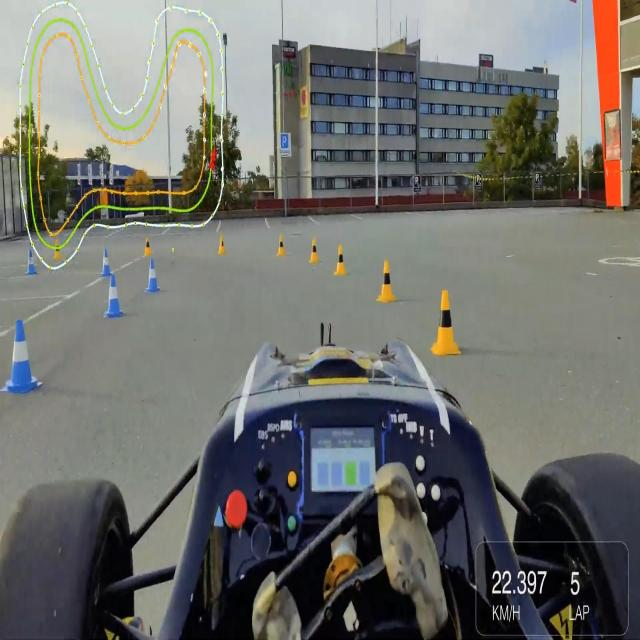blue_cone: (6, 318, 38, 394), (105, 274, 124, 316), (147, 258, 159, 292), (27, 250, 37, 277), (102, 248, 111, 277)
yellow_cone: (432, 290, 460, 356), (378, 260, 396, 303), (334, 244, 348, 276), (310, 237, 320, 266), (54, 240, 63, 261), (218, 236, 226, 256), (278, 235, 285, 257), (144, 237, 152, 256)
